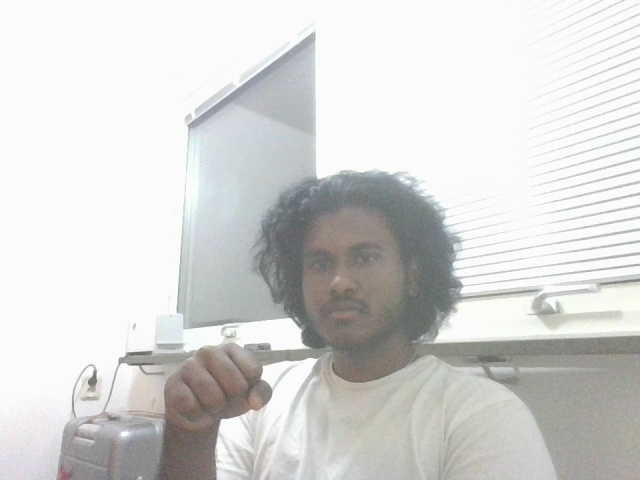Yes: (156, 338, 283, 425)
